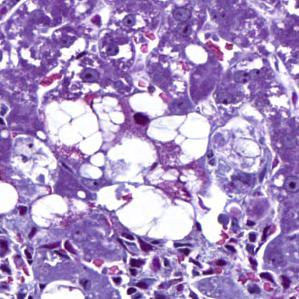ballooning: (94, 183, 197, 243), (43, 94, 106, 159), (145, 109, 213, 166), (90, 96, 127, 146)
